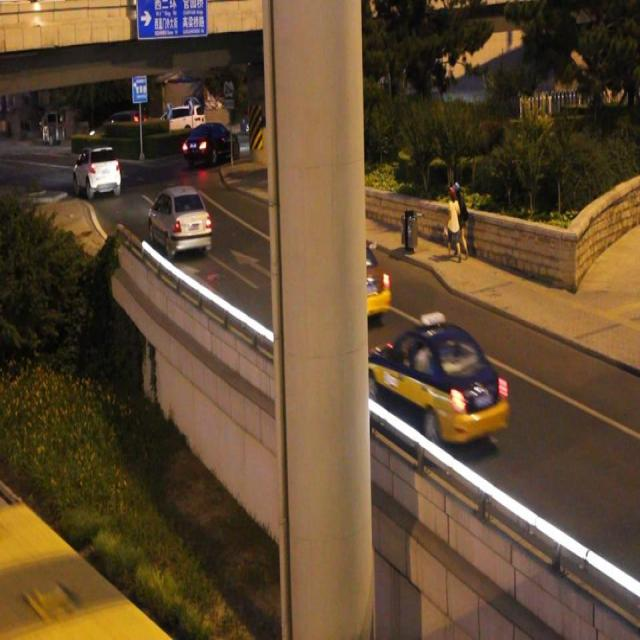car: (360, 309, 506, 441), (295, 228, 390, 325), (148, 184, 212, 257)
